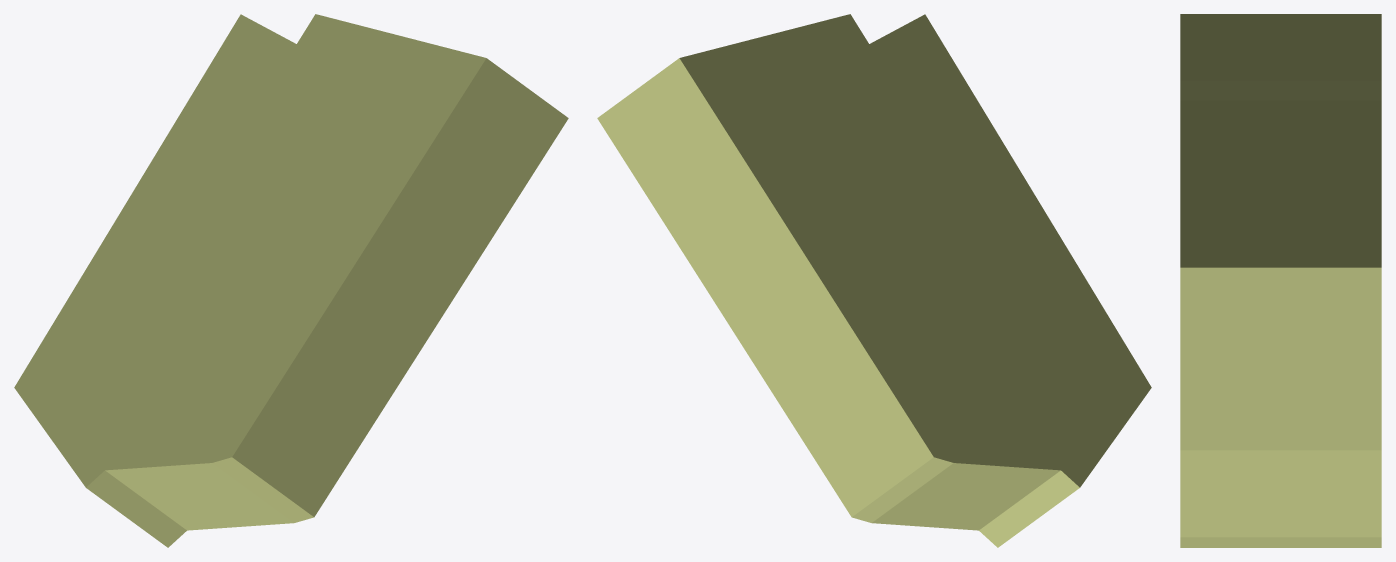
3 views of the same model, side by side, from view 1: azimuth 30°, elevation 25°; view 2: azimuth 150°, elevation 25°; view 3: azimuth 270°, elevation 25° (orthographic). The views are drawn at different scales.
Visible parts, largest first — view 1: 0_1_0_0_1_3_0_1_2_2; view 2: 0_1_0_0_1_3_0_1_2_2; view 3: 0_1_0_0_1_3_0_1_2_2.
Boxes of the visible parts, x1,y1,x2,y2 form: 0_1_0_0_1_3_0_1_2_2: [14, 14, 568, 547]; 0_1_0_0_1_3_0_1_2_2: [597, 14, 1151, 547]; 0_1_0_0_1_3_0_1_2_2: [1180, 14, 1381, 547].
Size of the model in its own units: 19.9 by 17.79 by 6.
